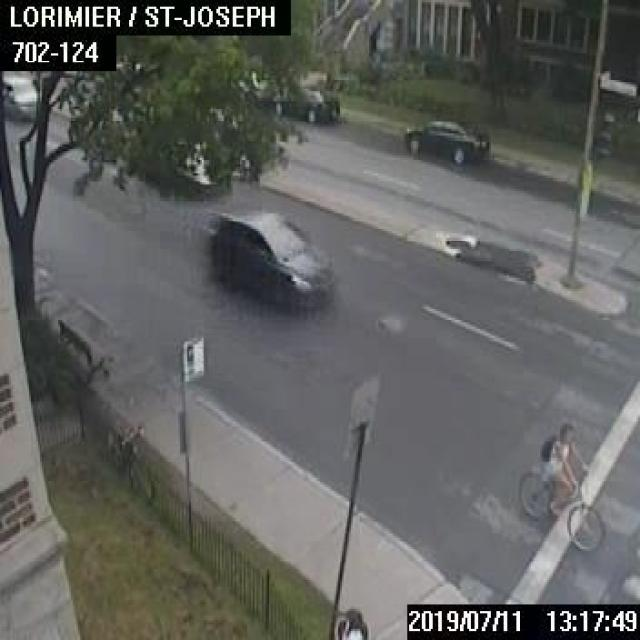cyclist: (516, 422, 604, 550)
vehicle: (210, 210, 331, 304), (124, 141, 229, 195), (404, 116, 488, 164), (274, 85, 338, 122), (1, 74, 36, 120)
